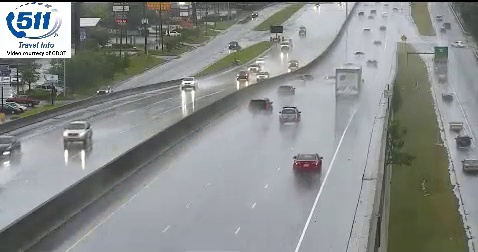car: (294, 154, 321, 175), (249, 99, 272, 115), (279, 107, 300, 124)
small-truck: (335, 64, 362, 100)
